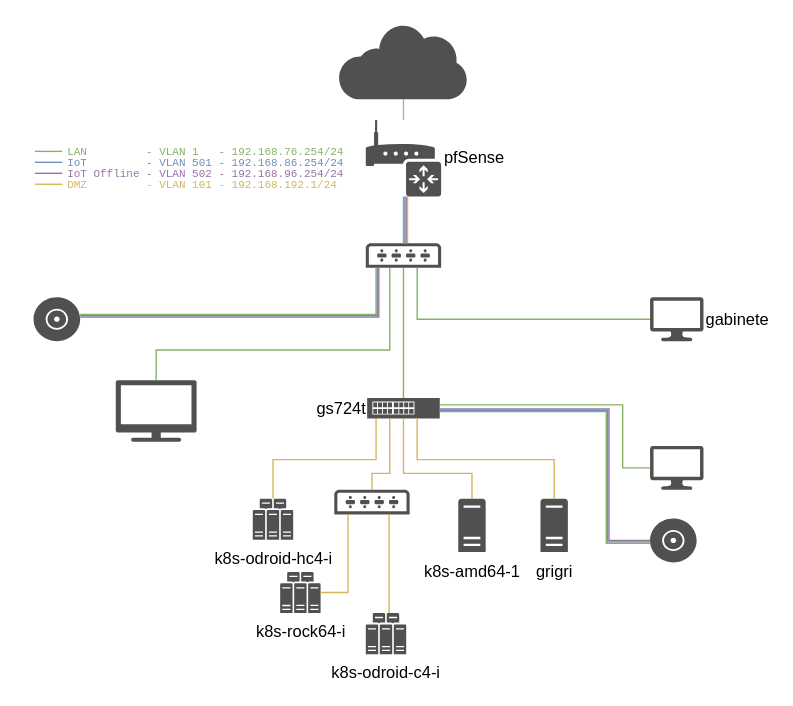
The diagram is 793 pixels wide and 706 high, and some of its shapes have lost their labels. The centre of each missing label's shape, as x and y in pixels:
cerezo: (x=672, y=540)
manzano: (x=56, y=318)
tv: (x=155, y=410)
z800: (x=676, y=467)
